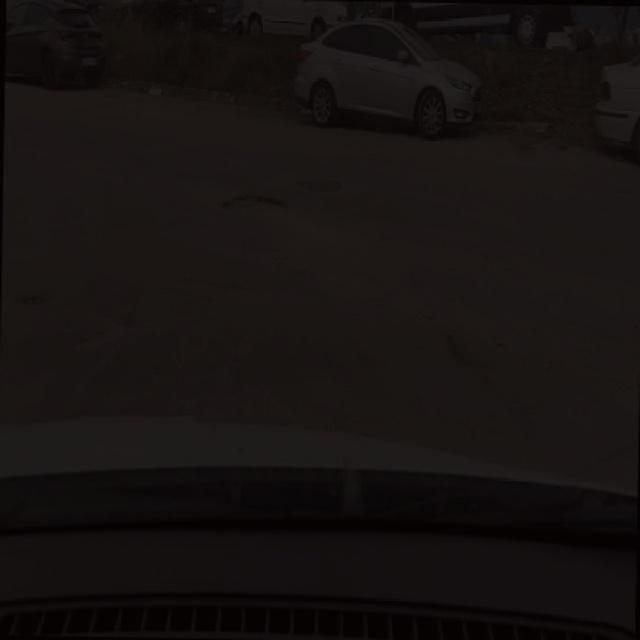Pothole: (215, 185, 290, 219), (14, 286, 44, 310)
